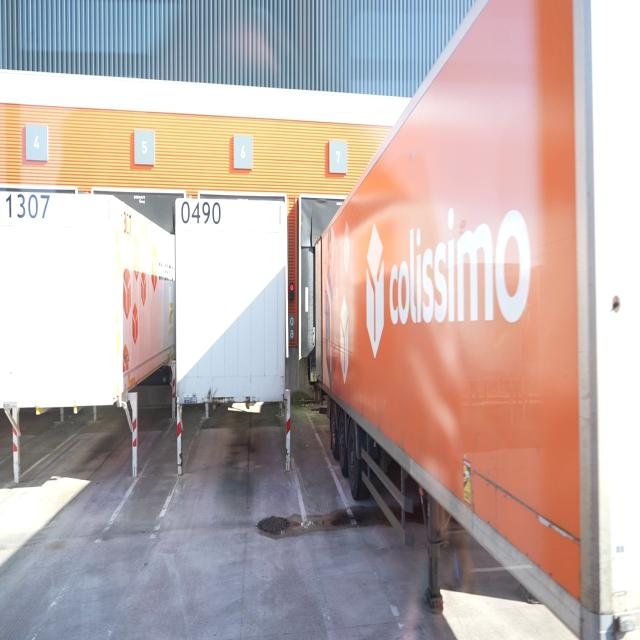Code: (4, 192, 52, 223), (177, 197, 223, 229)
